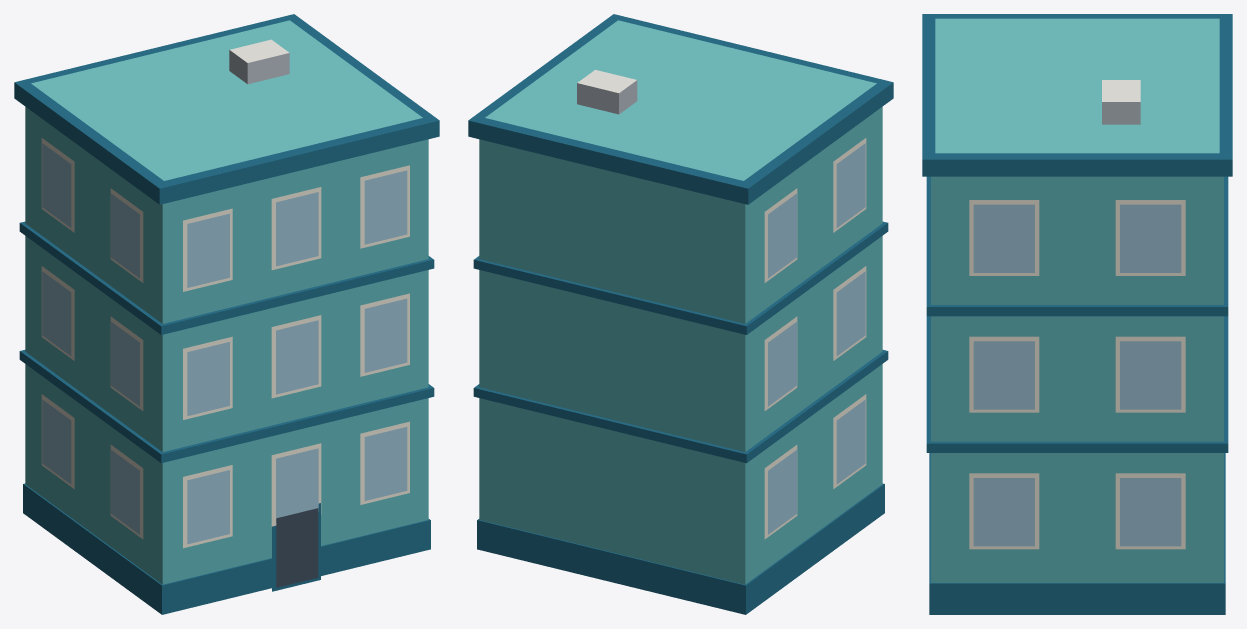
File: B_ApartmentTeal.fbx
3 views of the same model, side by side, from view 1: azimuth 30°, elevation 25°; view 2: azimuth 150°, elevation 25°; view 3: azimuth 270°, elevation 25° (orthographic). The views are drawn at different scales.
Visible parts, largest first — view 1: B_ApartmentTeal.001; view 2: B_ApartmentTeal.001; view 3: B_ApartmentTeal.001.
Boxes of the visible parts, x1,y1,x2,y2 form: B_ApartmentTeal.001: (14,14,439,614); B_ApartmentTeal.001: (468,14,893,614); B_ApartmentTeal.001: (922,14,1232,614).
Size of the model in its own units: 4 by 6.22 by 3.6.
